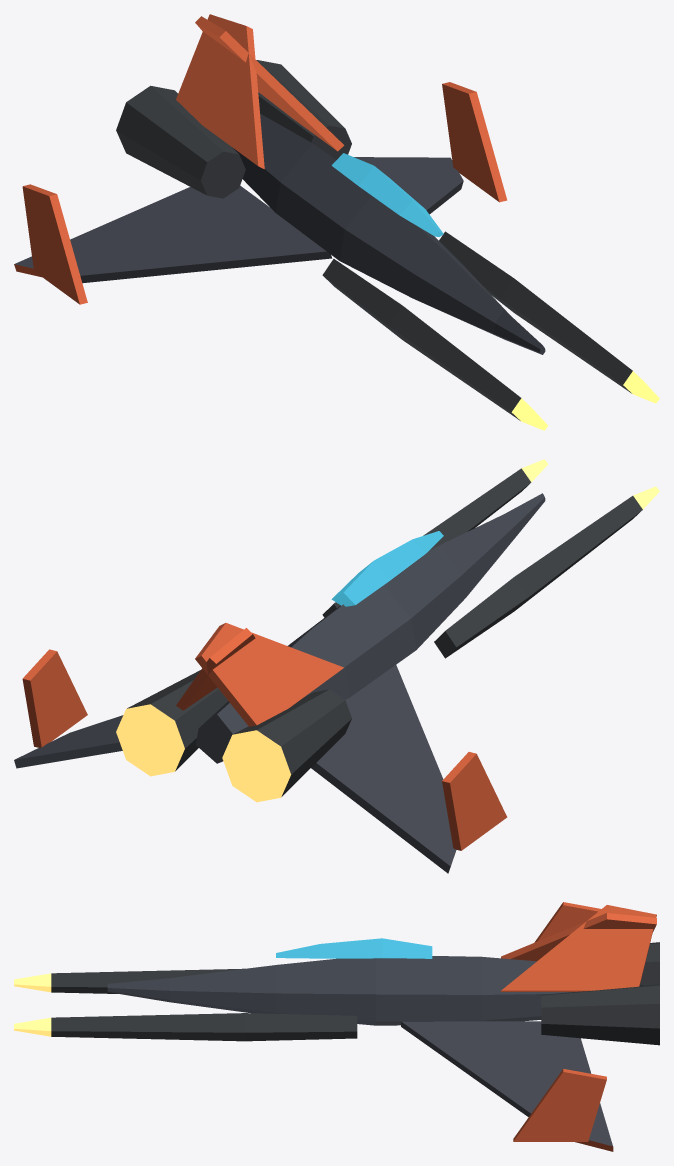
Rendered from void_interceptor_low_poly.glb.
3 views of the same model, one above another, from view 1: azimuth 30°, elevation 25°; view 2: azimuth 150°, elevation 25°; view 3: azimuth 270°, elevation 25° (orthographic). The views are drawn at different scales.
Visible parts, largest first — view 1: VoidInterceptor; view 2: VoidInterceptor; view 3: VoidInterceptor.
Part boxes in pixels (x1,y1,x2,y2): VoidInterceptor: (14,14,659,430); VoidInterceptor: (14,459,659,873); VoidInterceptor: (14,902,659,1151).
Size of the model in its own units: 3.29 by 1.39 by 5.17.
